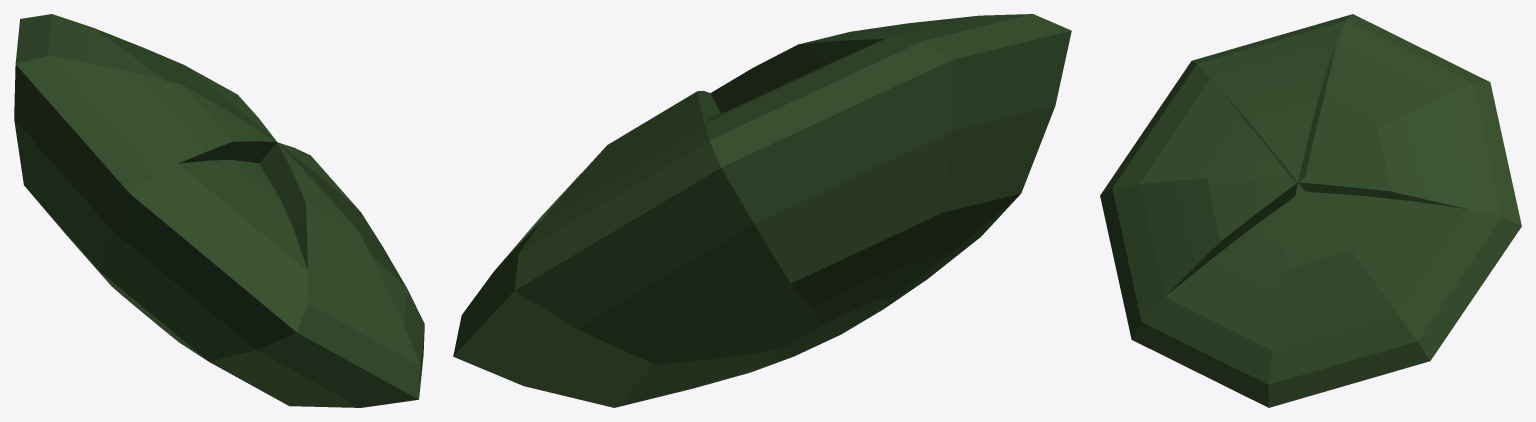
Rendered from S_green.fbx.
The picture shows the model from 3 angles, left to right: view 1: azimuth 30°, elevation 25°; view 2: azimuth 150°, elevation 25°; view 3: azimuth 270°, elevation 25°; orthographic projection. The views are drawn at different scales.
Visible parts, largest first — view 1: S_green; view 2: S_green; view 3: S_green.
Part boxes in pixels (left/top/right/bottom): S_green: left=14, top=14, right=424, bottom=407; S_green: left=453, top=14, right=1071, bottom=407; S_green: left=1100, top=14, right=1521, bottom=407.
Size of the model in its own units: 12.94 by 12.18 by 17.21.
1 material, 1 textured.
